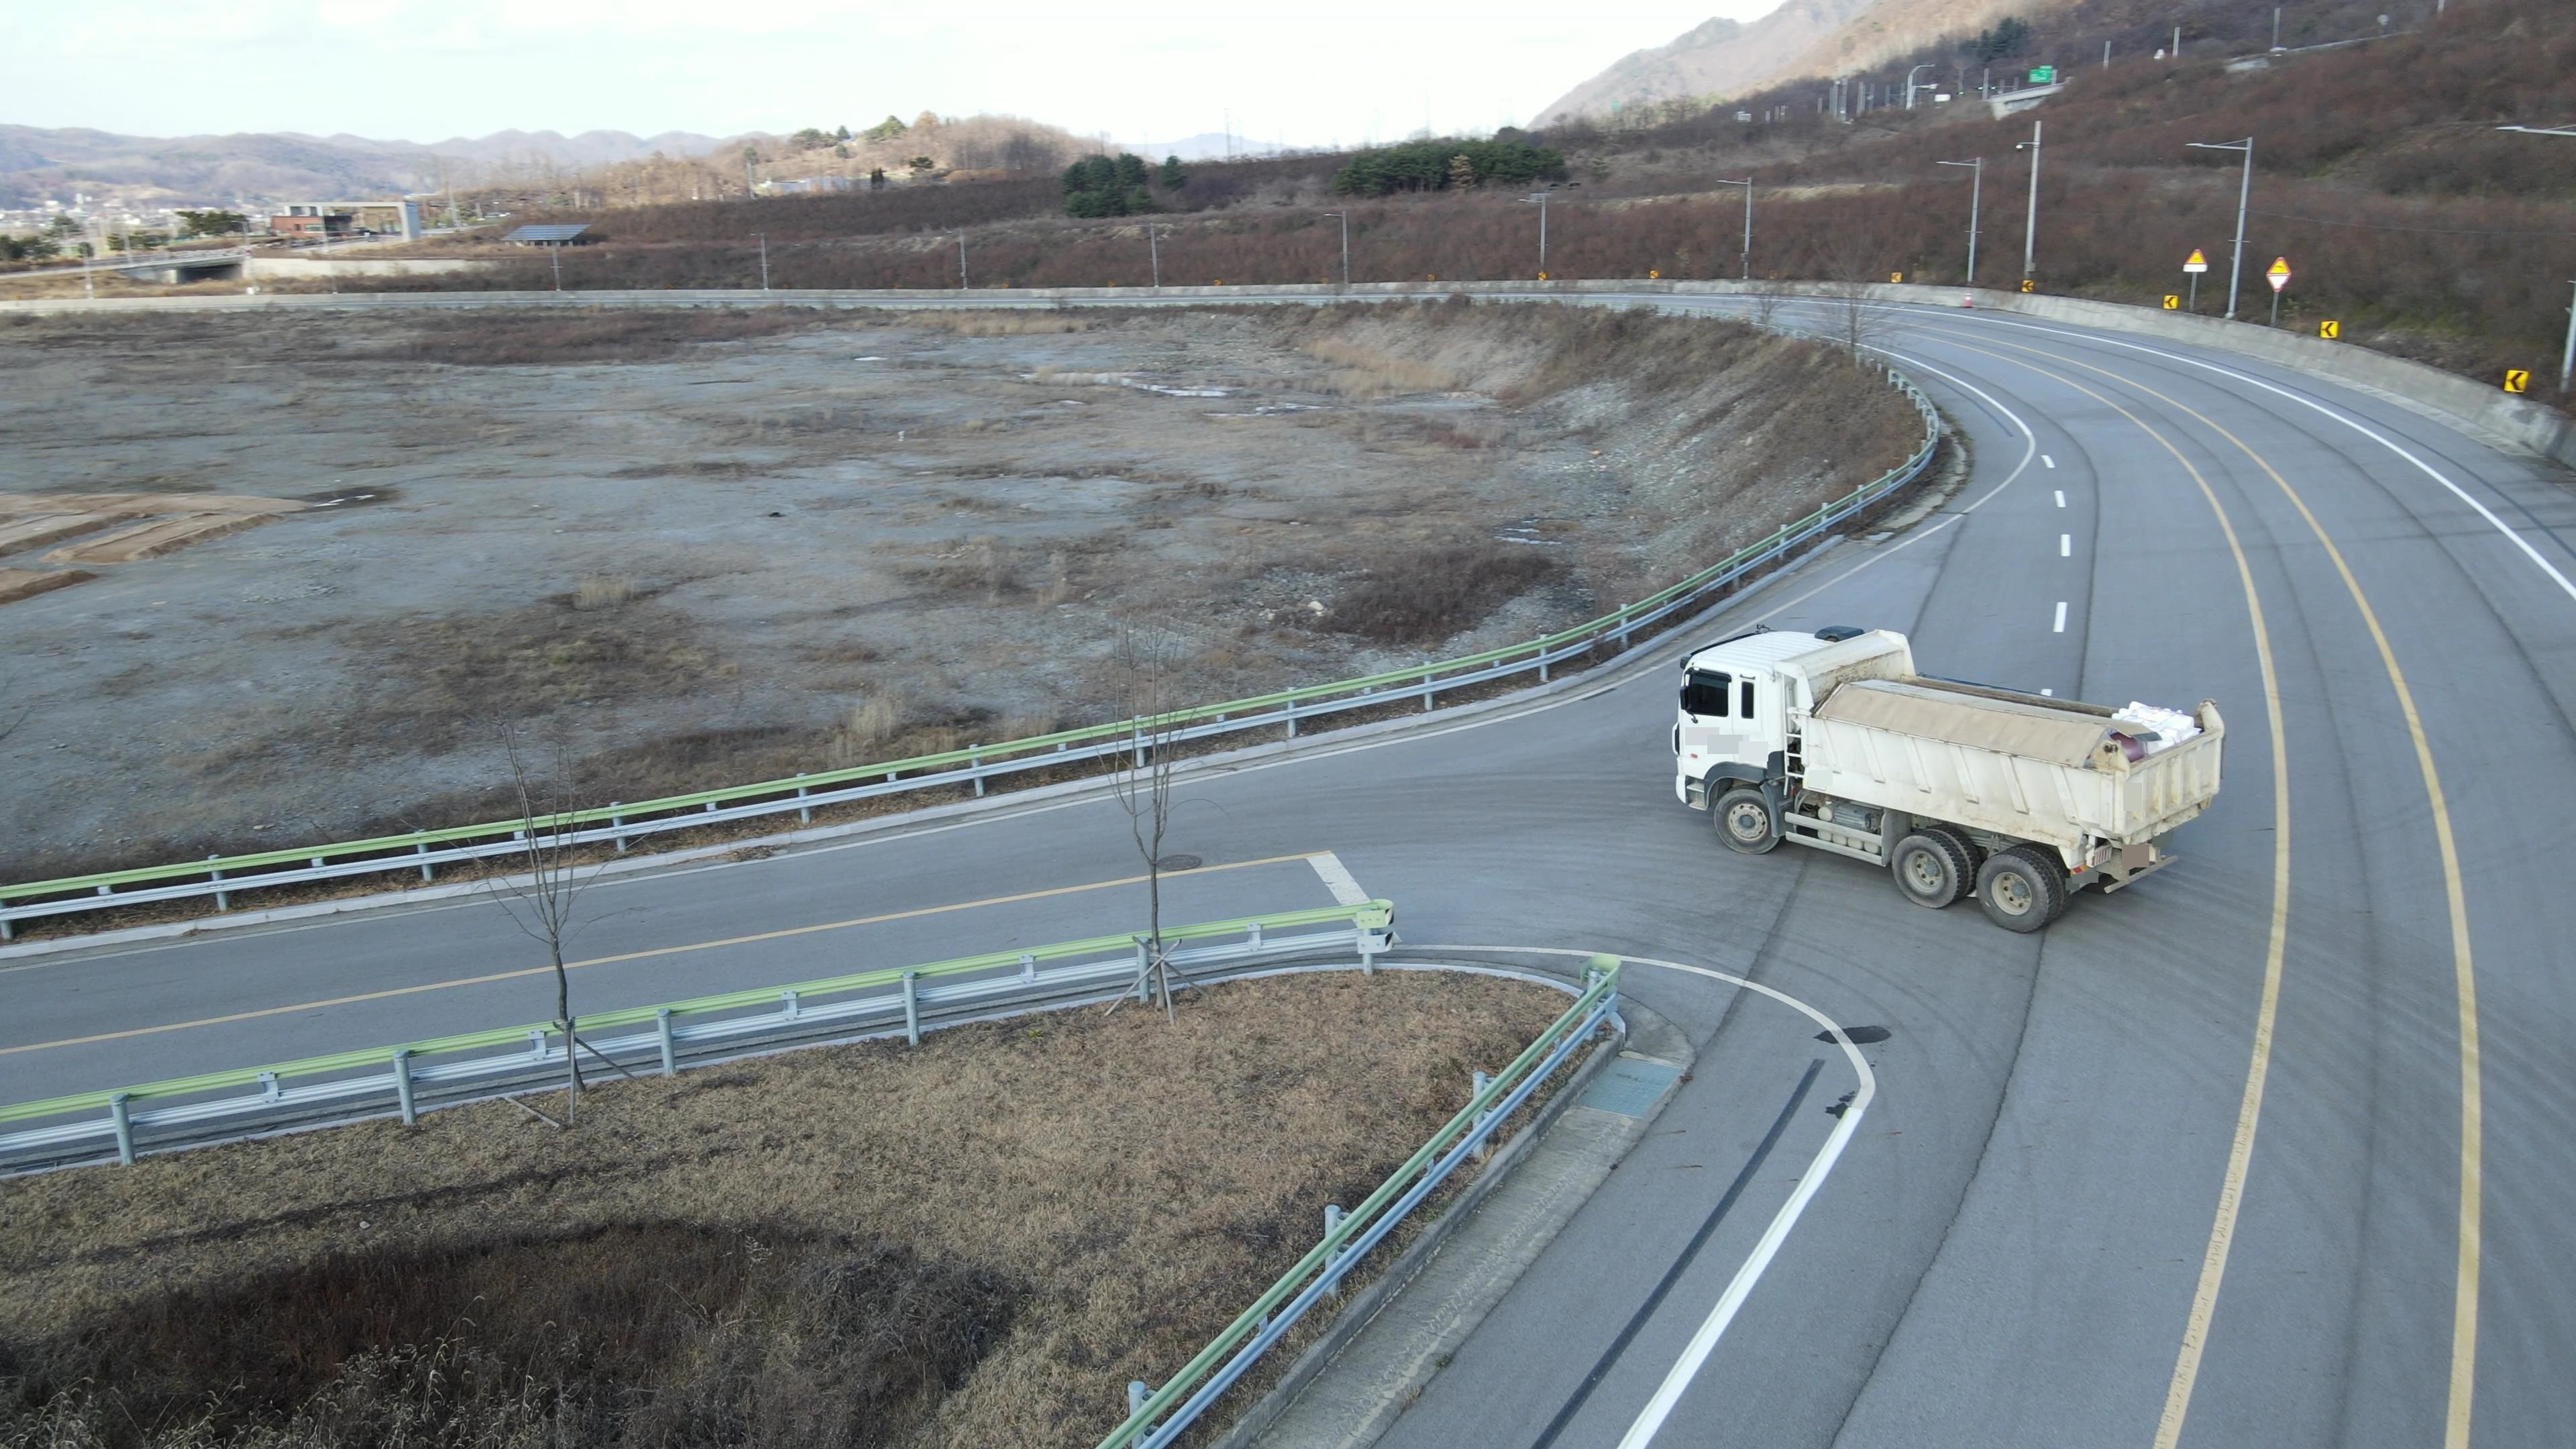불법차량: (1663, 614, 2227, 939)
